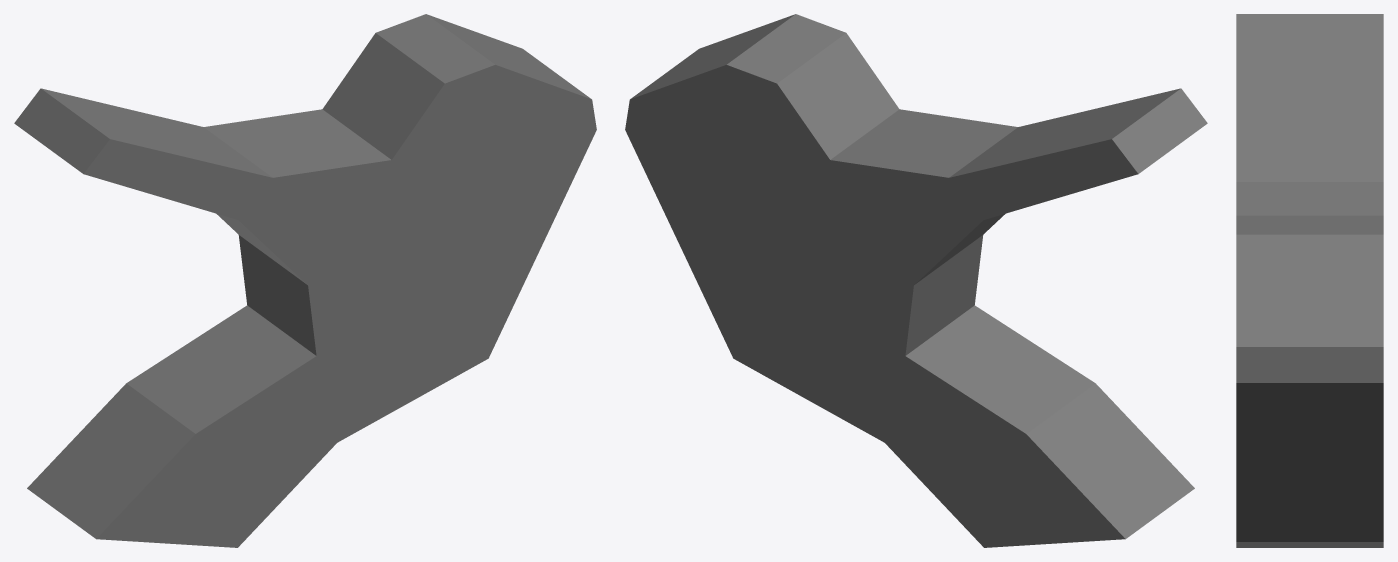
Rendered from Pistol5_01_4.fbx.
3 renders of one model, left to right at view 1: azimuth 30°, elevation 25°; view 2: azimuth 150°, elevation 25°; view 3: azimuth 270°, elevation 25°, orthographic. The views are drawn at different scales.
Visible parts, largest first — view 1: Pistol5_01_4; view 2: Pistol5_01_4; view 3: Pistol5_01_4.
Part boxes in pixels (x1,y1,x2,y2): Pistol5_01_4: (14, 14, 596, 547); Pistol5_01_4: (625, 14, 1207, 547); Pistol5_01_4: (1236, 14, 1383, 547).
Bounding box in the file's own units: 0.0403 × 0.033 × 0.00942.
